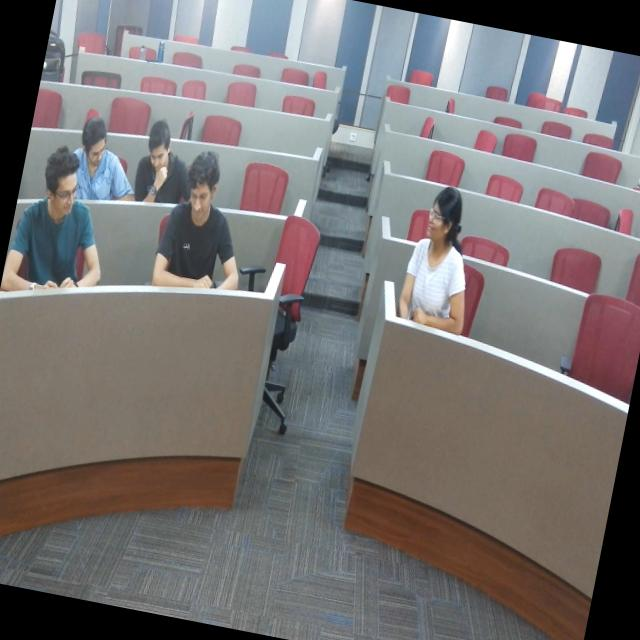cheating: (146, 149, 260, 315), (0, 147, 111, 314), (385, 192, 486, 348)
